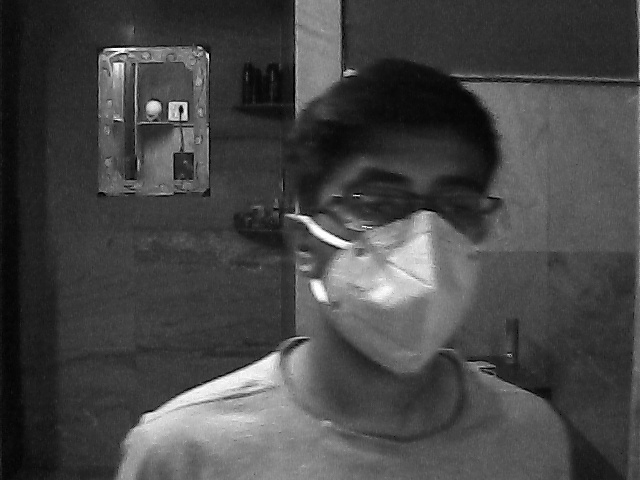mask: (312, 153, 491, 383)
